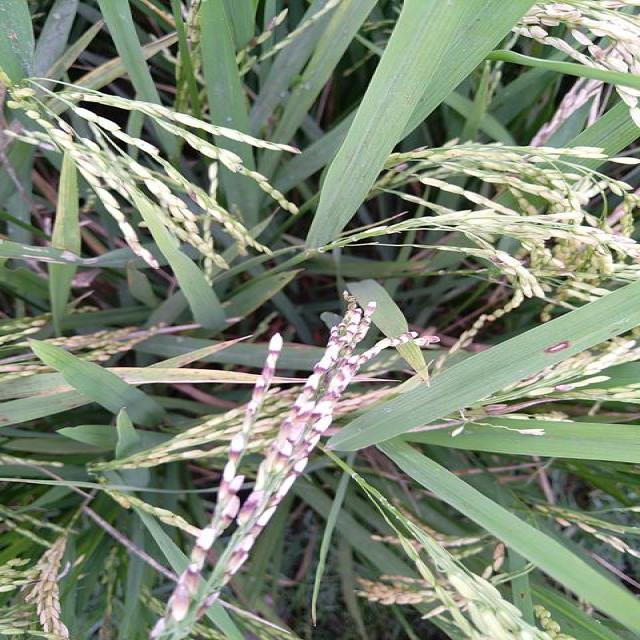Leaf Streak: (107, 368, 260, 385), (177, 335, 251, 368), (545, 338, 575, 359), (39, 385, 71, 398), (353, 377, 392, 383), (272, 377, 308, 383)
Panicle Blight: (196, 292, 440, 622), (148, 334, 281, 639), (533, 28, 639, 78), (532, 85, 599, 147), (57, 329, 144, 366), (248, 391, 293, 453), (357, 576, 436, 608), (325, 392, 376, 436), (188, 404, 248, 441), (467, 250, 523, 270), (536, 9, 583, 31), (464, 401, 524, 418), (488, 541, 508, 582), (541, 379, 581, 393), (186, 185, 207, 210)
